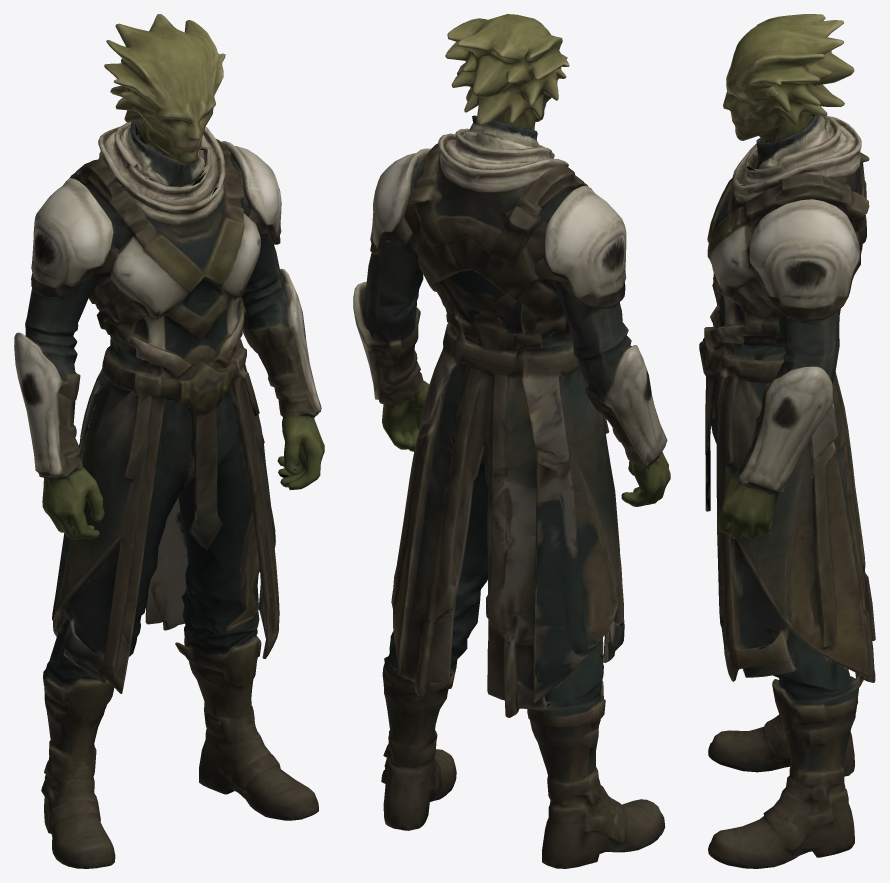
File: figur.glb
3 renders of one model, left to right at view 1: azimuth 30°, elevation 25°; view 2: azimuth 150°, elevation 25°; view 3: azimuth 270°, elevation 25°, orthographic. The views are drawn at different scales.
Visible parts, largest first — view 1: figur; view 2: figur; view 3: figur.
Boxes of the visible parts, <box> form: figur: <box>14,14,324,868</box>; figur: <box>353,14,670,868</box>; figur: <box>699,14,875,868</box>.
Bounding box in the file's own units: 0.37 × 0.9985 × 0.2038.
1 material, 1 textured.
